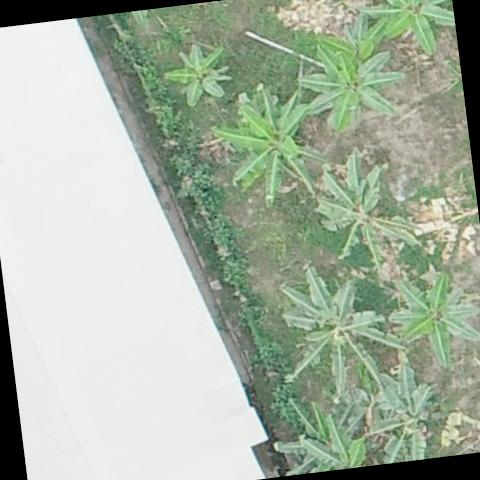Banana-plant: (266, 258, 401, 401), (308, 150, 424, 276), (211, 90, 318, 215), (288, 33, 407, 138), (384, 260, 480, 371), (363, 358, 454, 465), (149, 40, 244, 112), (356, 0, 458, 62)
